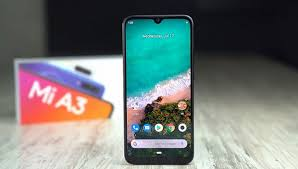mi: (120, 12, 197, 166)
